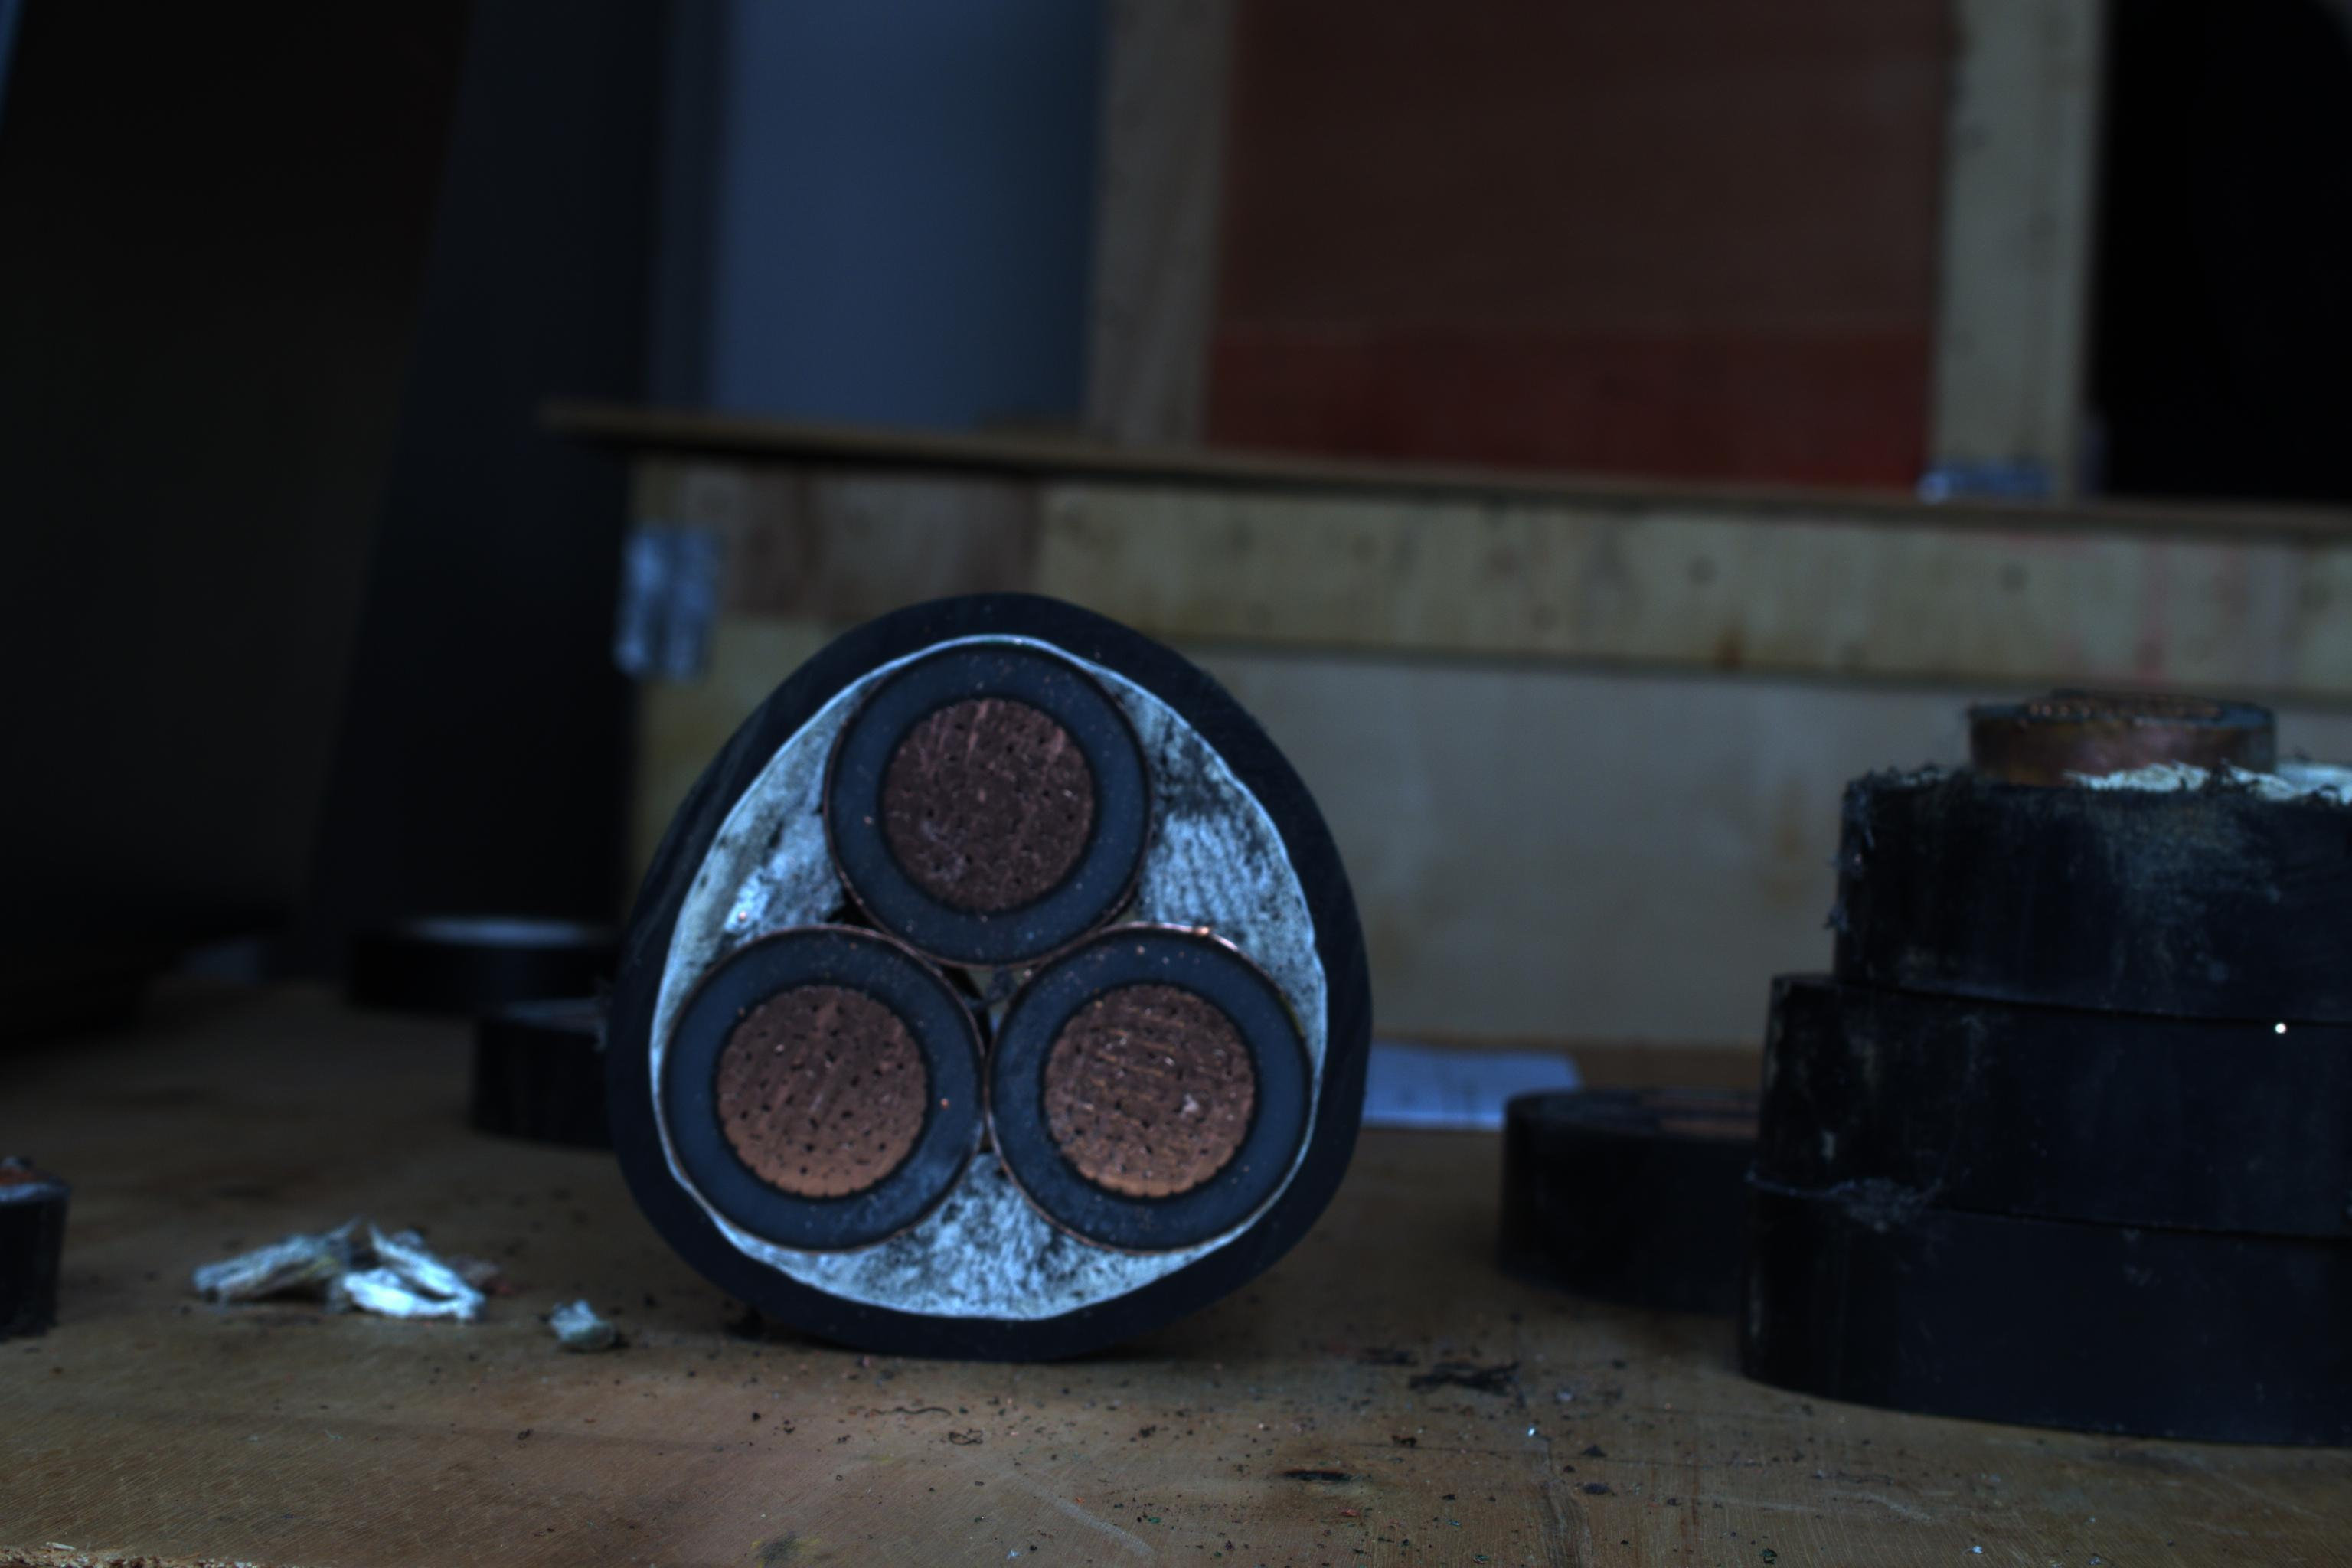ZA_YJV_8.7_10kV_3x400: (632, 586, 1361, 1323)
